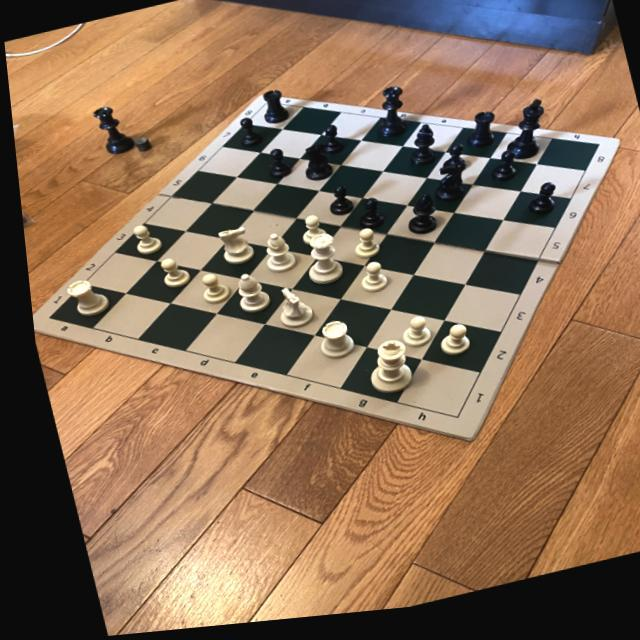chess-table-corners: (34, 314, 50, 325), (588, 150, 601, 162), (443, 421, 456, 432)
